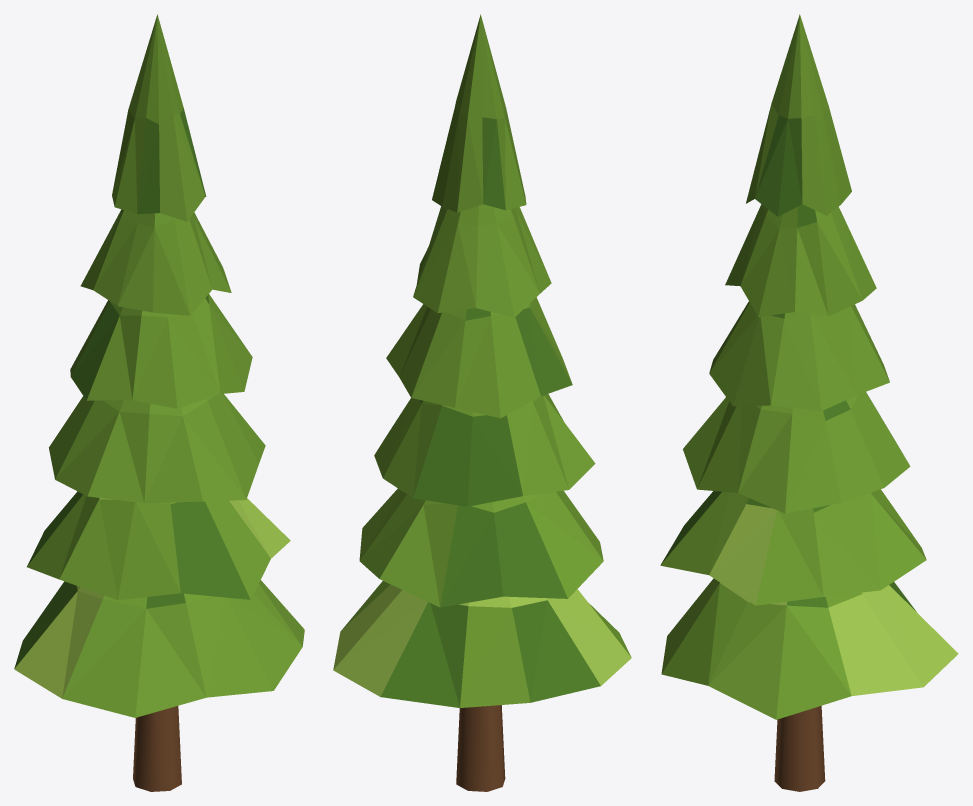
Rendered from tree_pine_m.glb.
The picture shows the model from 3 angles, left to right: view 1: azimuth 30°, elevation 25°; view 2: azimuth 150°, elevation 25°; view 3: azimuth 270°, elevation 25°; orthographic projection.
Visible parts, largest first — view 1: tree.pine.m; view 2: tree.pine.m; view 3: tree.pine.m.
Part boxes in pixels (x1,y1,x2,y2): tree.pine.m: (14, 14, 304, 791); tree.pine.m: (333, 14, 631, 791); tree.pine.m: (660, 14, 958, 791).
Size of the model in its own units: 4.37 by 12 by 4.23.
